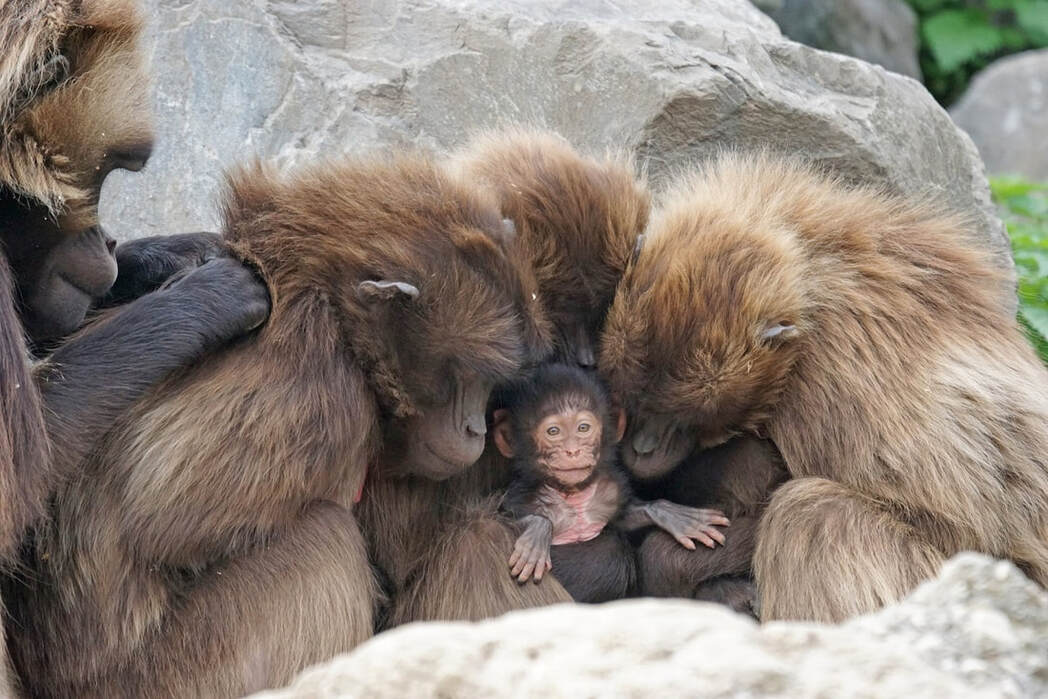Gelada: (641, 182, 1037, 602), (194, 206, 502, 631), (4, 1, 160, 628), (494, 371, 658, 596), (482, 145, 647, 365)
